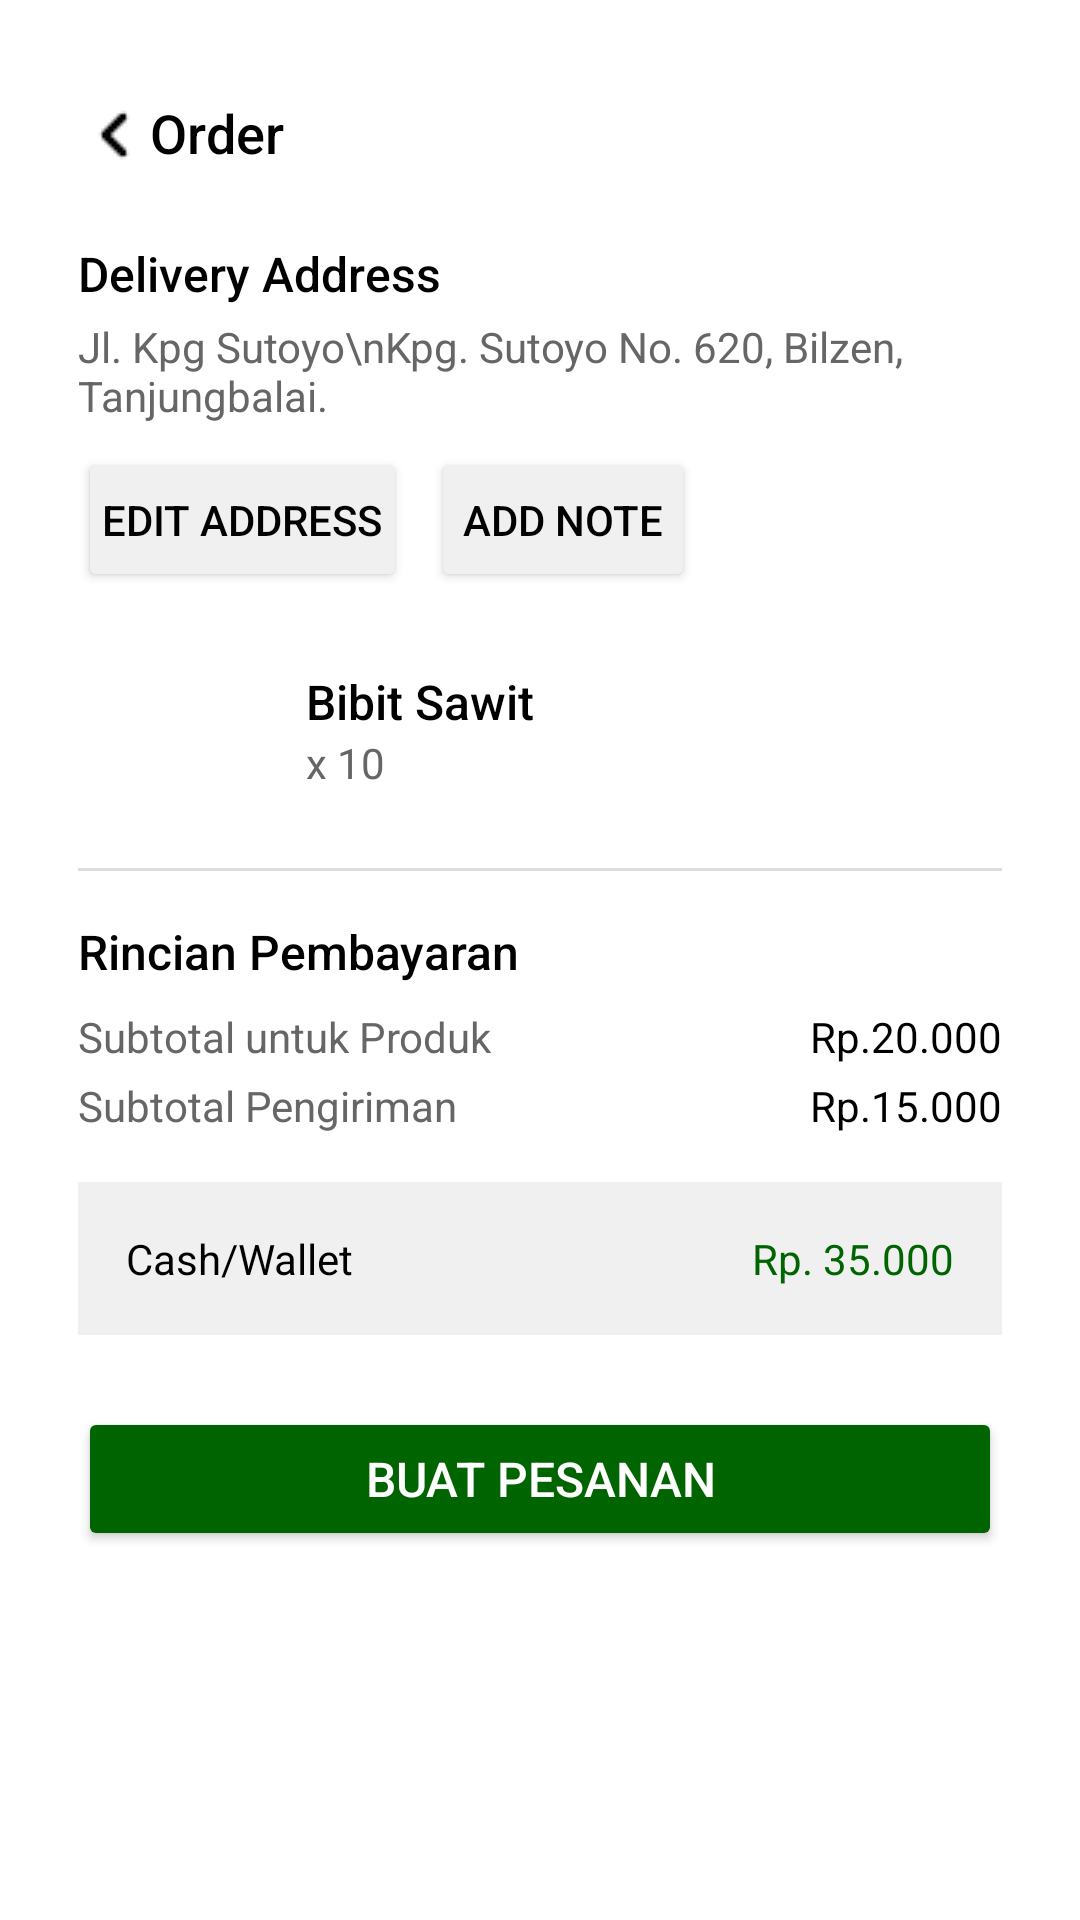

Icon bounding boxes for this 1080px x 1920px phone screenshot, format (x1,y1,x2,y2):
kembali detail toko: (100,112,128,158)
